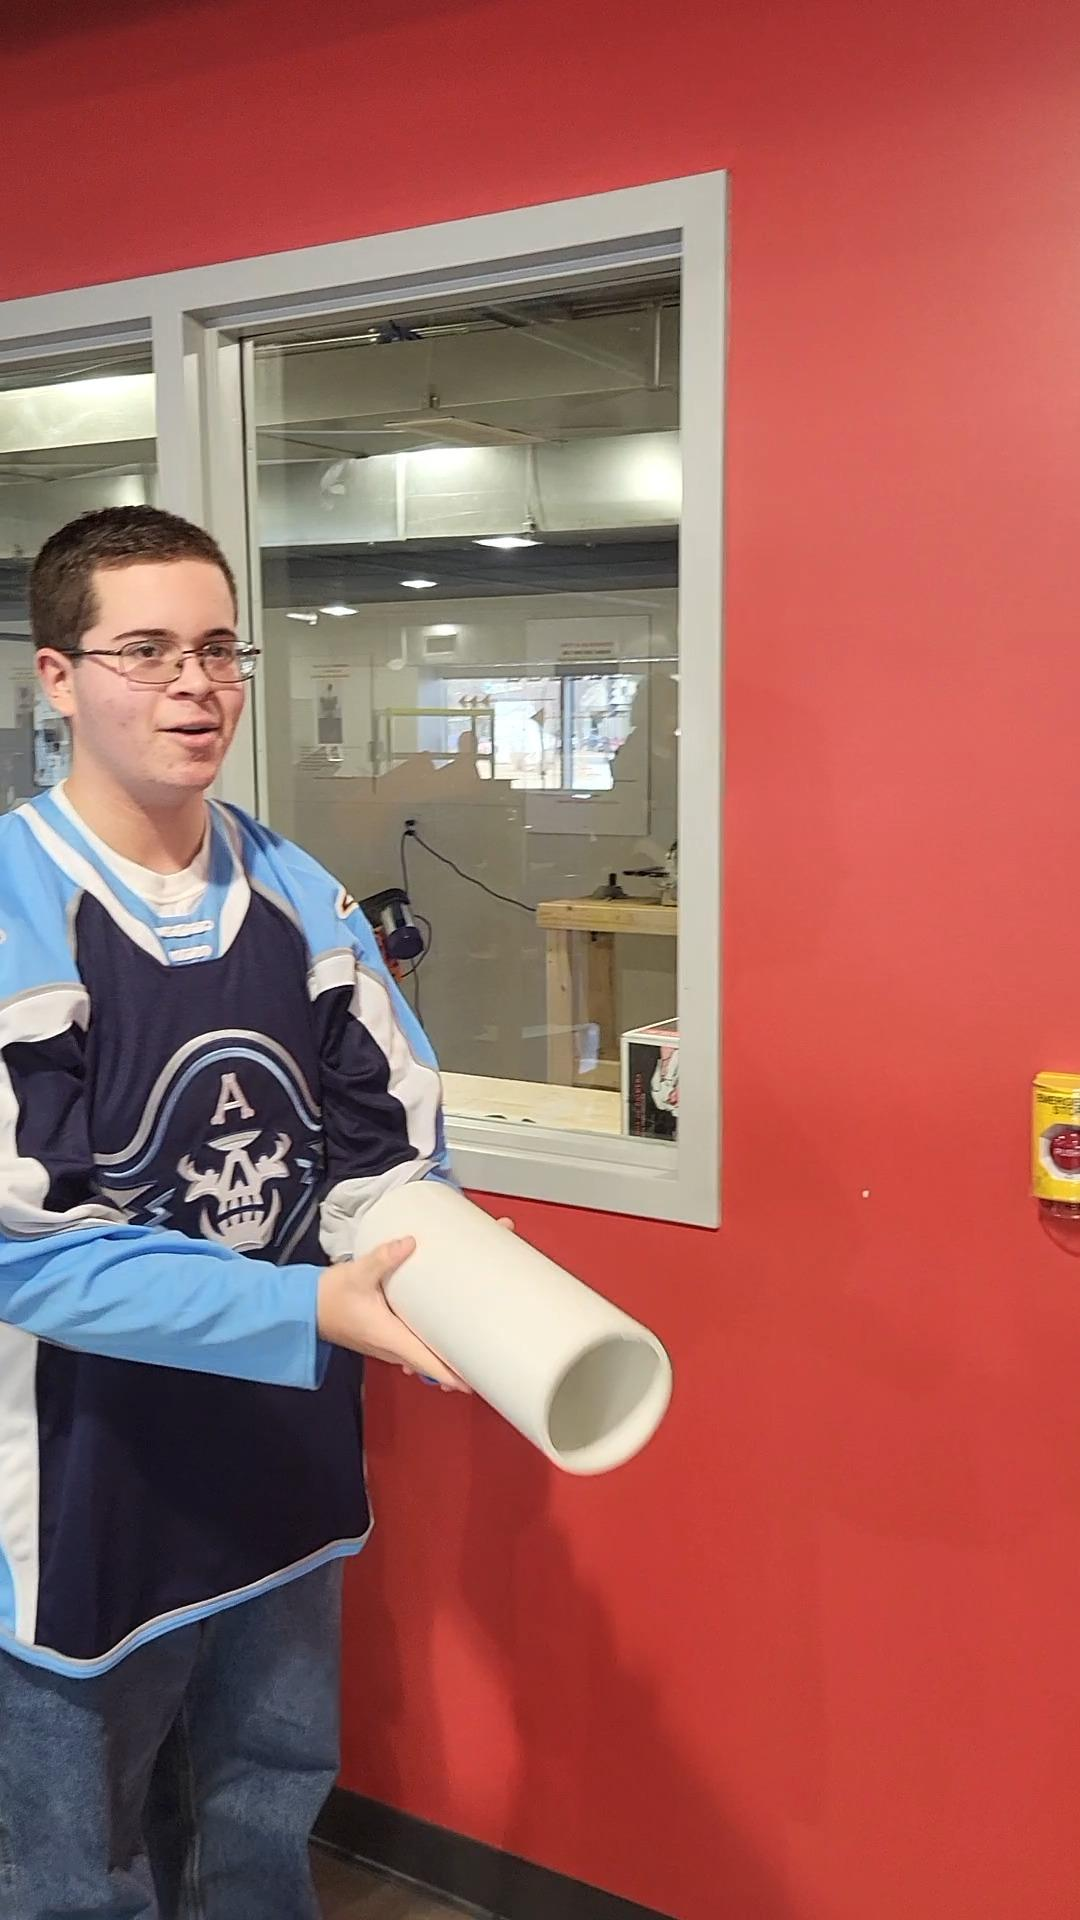coral: (353, 1175, 683, 1486)
